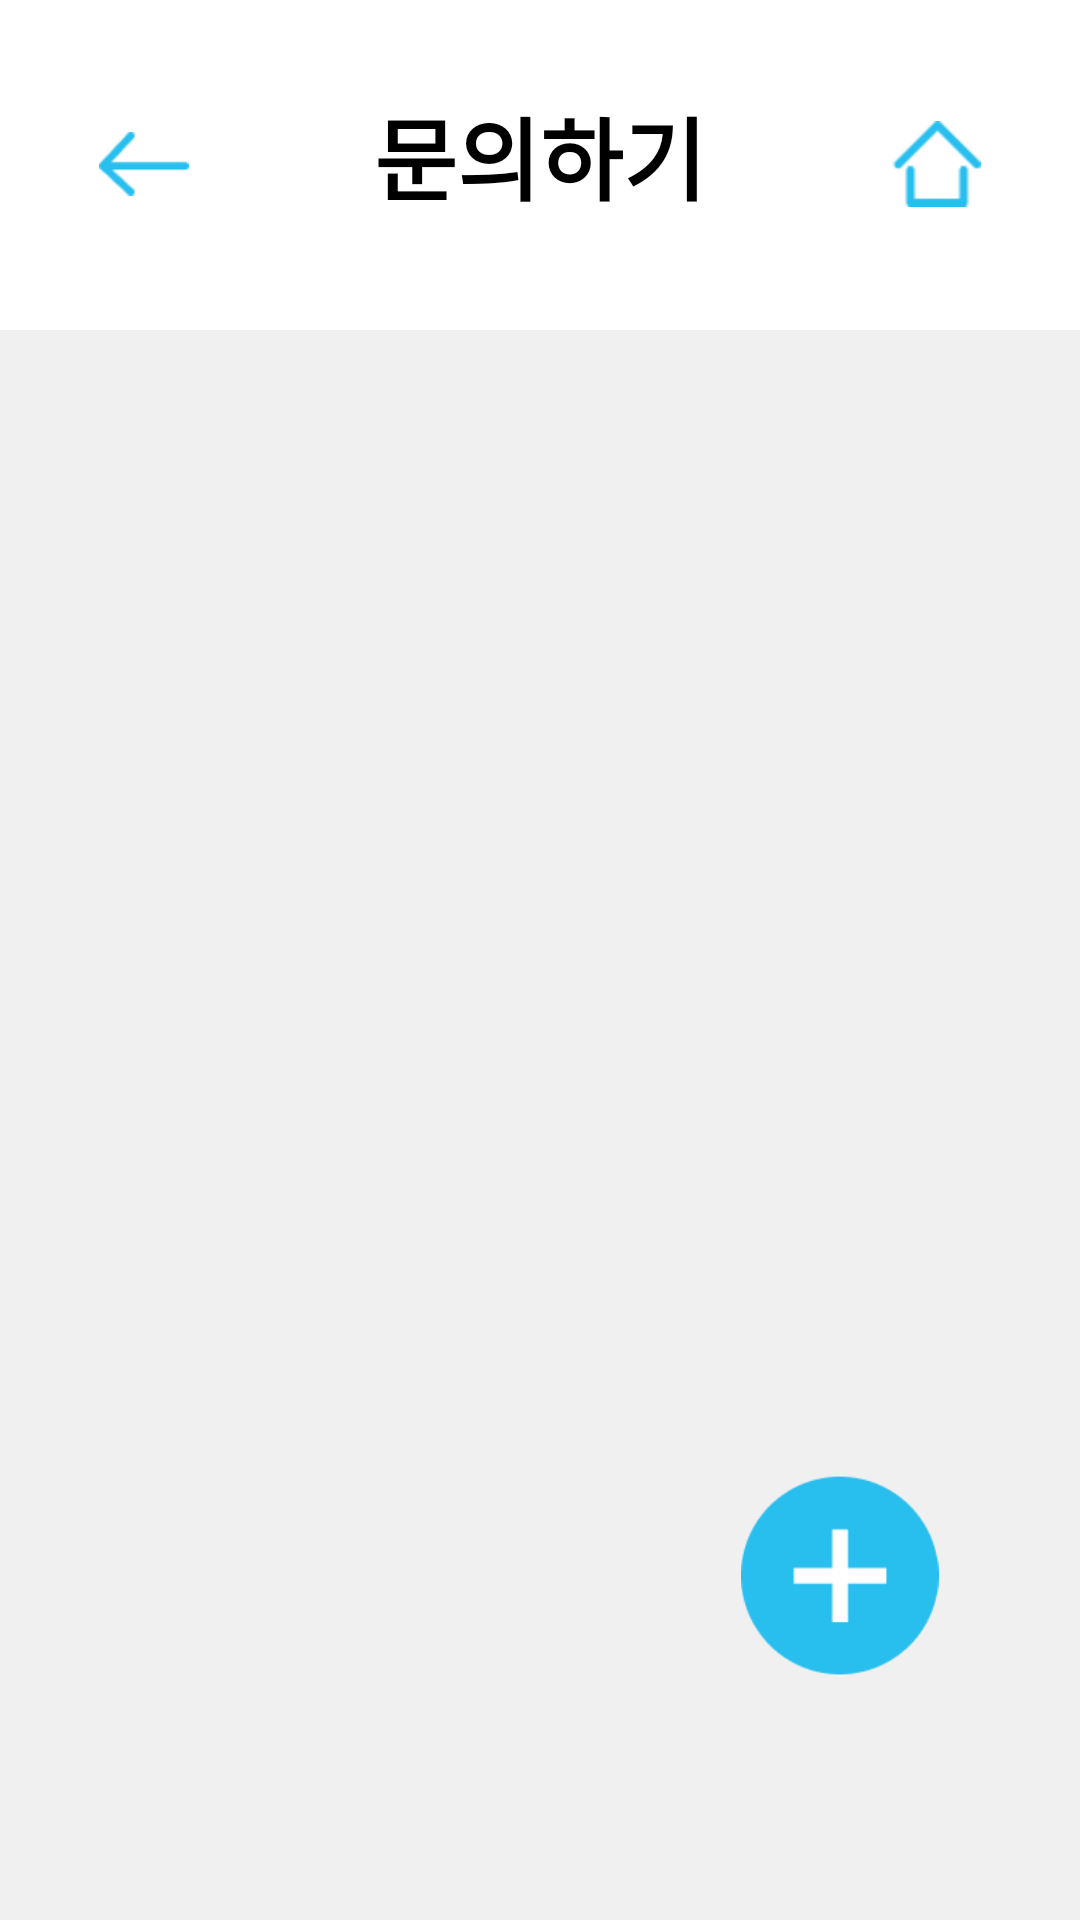

Named icons in this screenshot (1080×1920) and their centers, point (x, y):
backbtn: point (144, 164)
homebtn: point (937, 164)
plusbtn: point (840, 1575)
